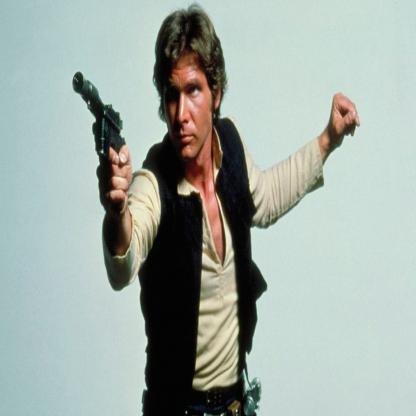Pistol: (48, 63, 145, 218)
